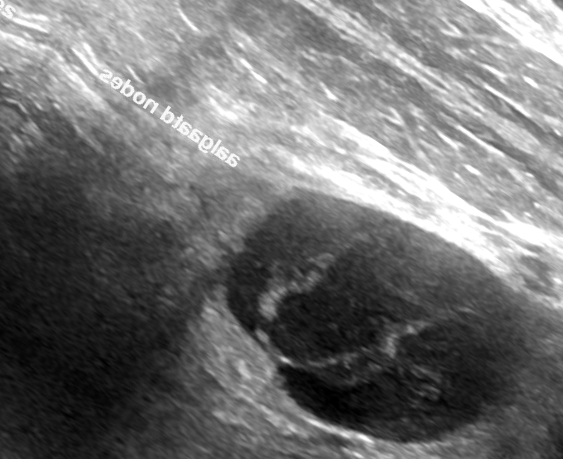Benign: (238, 199, 503, 435)
